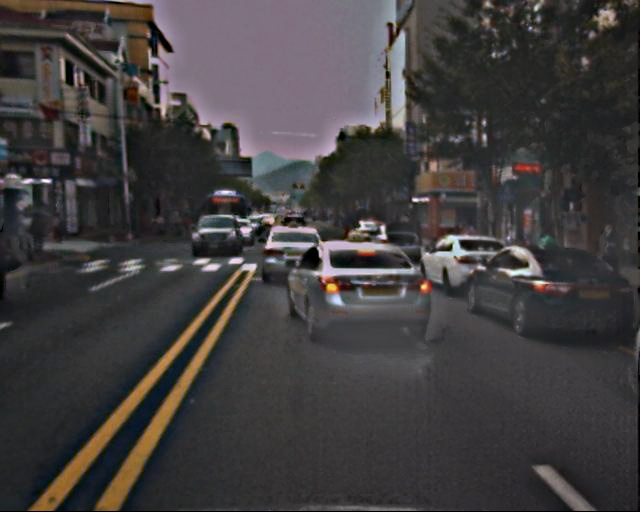person: (595, 221, 624, 292), (28, 200, 63, 250)
